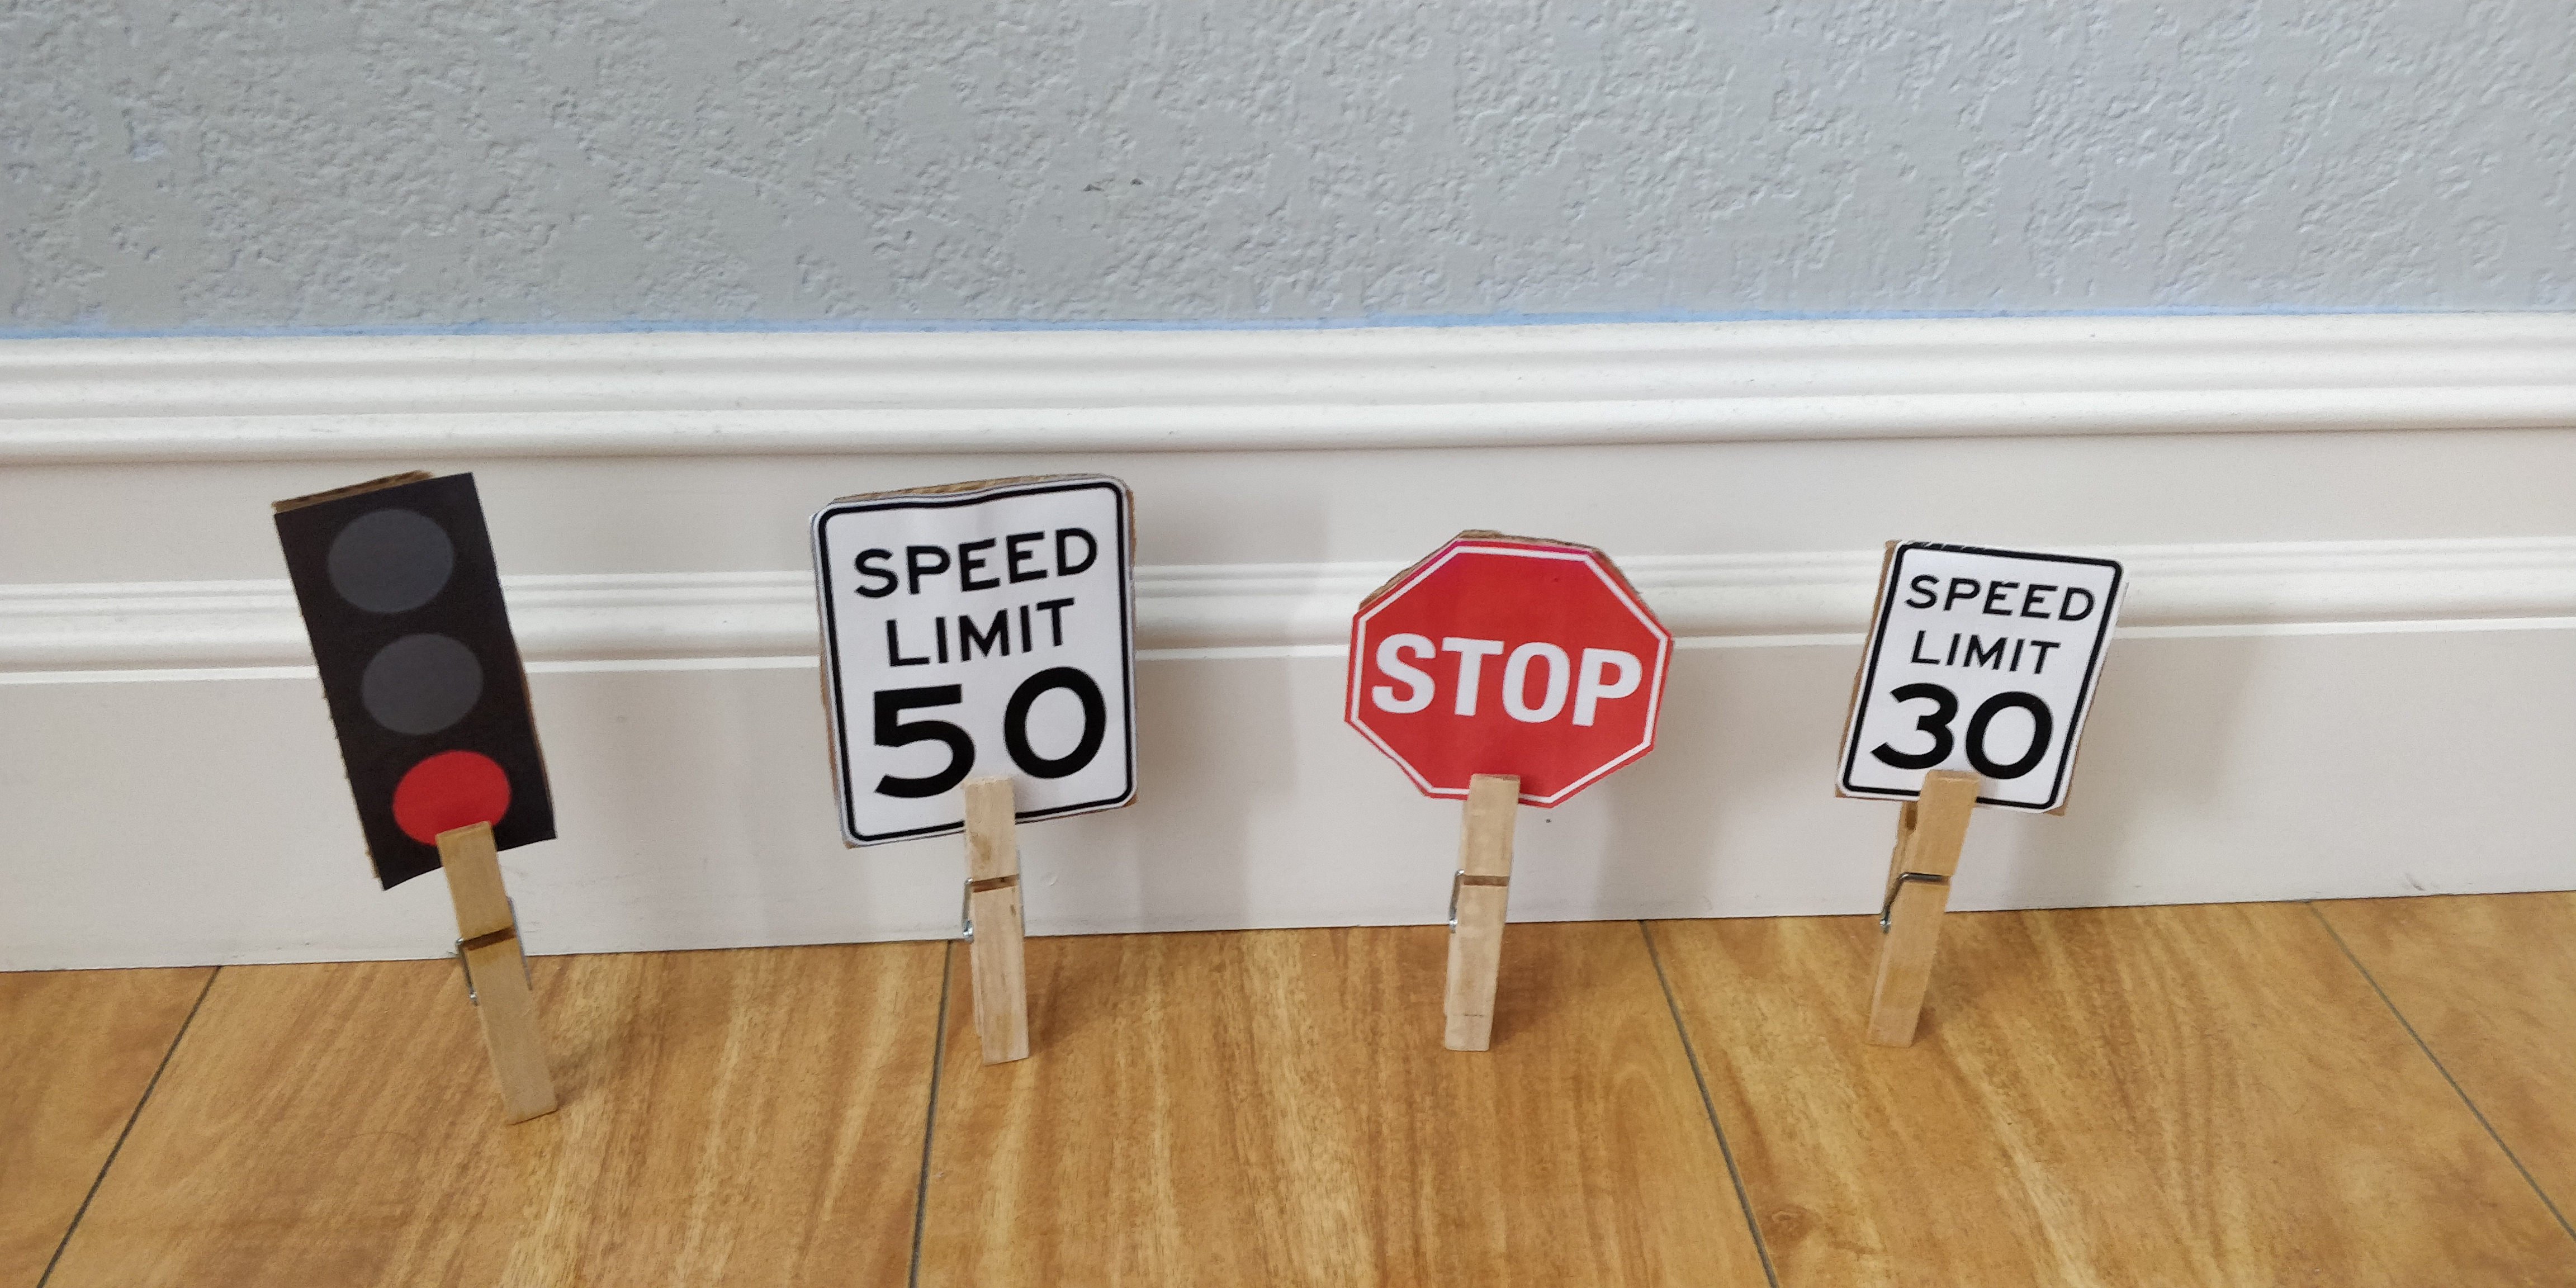Speed Limit 30: (1842, 540, 2126, 813)
Speed Limit 50: (805, 470, 1138, 851)
Stop Sign: (1342, 527, 1669, 810)
red light: (274, 471, 563, 884)
